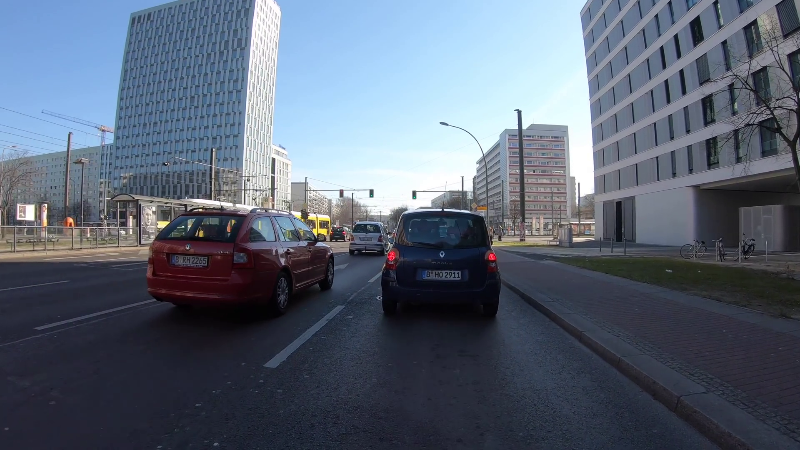Plate: (418, 266, 463, 284), (169, 252, 208, 269), (357, 235, 373, 242)
